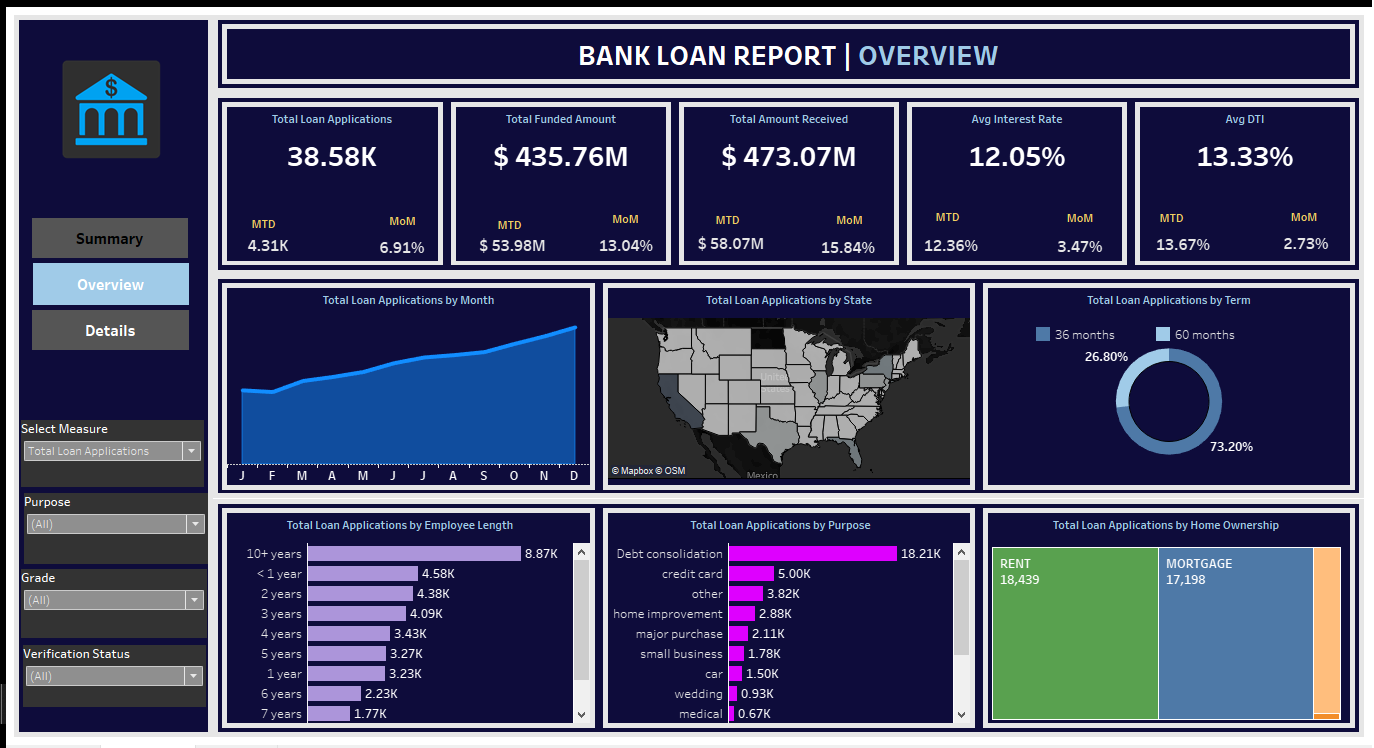

What the dashboard file says about the page in this screenshot:
{"tool":"tableau","page":{"name":"OVERVIEW","canvas":[1000,1000],"units":"permille","ordinal":1},"visuals":[{"type":"text","box":[156.6,22,832.2,87.8]},{"type":"image","param":"Image/pngtree-bank-icon-white-background-png-image_10798288 1.png","box":[32,37.2,89.2,204.4]},{"type":"worksheet","title":"Total Loan Applications","mark":"Automatic","box":[156.6,126.7,166.4,227.8]},{"type":"worksheet","title":"Total Funded Amount","mark":"Automatic","box":[323,126.7,166.4,227.8]},{"type":"worksheet","title":"Total Amount Received","mark":"Automatic","box":[489.4,126.7,166.4,227.8]},{"type":"worksheet","title":"Avg Interest Rate","mark":"Automatic","box":[655.8,126.7,166.4,227.8]},{"type":"worksheet","title":"Avg DTI","mark":"Automatic","box":[822.3,126.7,166.4,227.8]},{"type":"text","box":[922.1,261.8,55.4,45.6]},{"type":"text","box":[757.6,263.5,57.1,45.6]},{"type":"worksheet","title":"MTD Total Amount received","mark":"Automatic","box":[497,265.2,66.7,81.1]},{"type":"text","box":[826,265.2,54.6,40.5]},{"type":"text","box":[588.7,266.9,58,42.2]},{"type":"text","box":[665.8,266.9,47.6,35.5]},{"type":"text","box":[267.5,268.6,45.9,42.2]},{"type":"text","box":[502.2,268.6,52,40.5]},{"type":"text","box":[424.2,272,58,30.4]},{"type":"text","box":[168.8,273.7,39,38.9]},{"type":"worksheet","title":"MTD Total Funded Amount","mark":"Automatic","box":[335.9,273.7,66.7,71]},{"type":"worksheet","title":"MTD Avg Interest Rate","mark":"Automatic","box":[643.3,273.7,96.1,71]},{"type":"worksheet","title":"MTD Avg DTI","mark":"Automatic","box":[828.6,273.7,64.9,67.6]},{"type":"text","box":[339.4,277,58,37.2]},{"type":"dashboard-object","box":[19.1,285.5,114.3,54.1]},{"type":"worksheet","title":"MoM Total Funded Amount","mark":"Automatic","box":[424.2,292.2,58,59.1]},{"type":"worksheet","title":"MoM Total Amount Received","mark":"Automatic","box":[587.9,293.9,57.1,60.8]},{"type":"worksheet","title":"MoM Avg Interest Rate","mark":"Automatic","box":[758.4,295.6,55.4,57.4]},{"type":"worksheet","title":"MoM Avg DTI","mark":"Automatic","box":[922.9,297.3,56.3,45.6]},{"type":"worksheet","title":"MTD Total Loan Applications","mark":"Automatic","box":[165.4,302.4,52,40.5]},{"type":"worksheet","title":"MoM Total Loan Applications","mark":"Automatic","box":[265.8,305.7,47.6,37.2]},{"type":"dashboard-object","box":[19.9,346.3,114.3,57.4]},{"type":"worksheet","title":"Month","mark":"Area","rows":["Calculation_291045189662990349","Calculation_291045189662990349"],"cols":["issue_date"],"box":[156.7,371.6,277.9,285.5]},{"type":"worksheet","title":"State","mark":"Multipolygon","box":[434.6,371.6,277.1,285.5]},{"type":"worksheet","title":"Term","mark":"Pie","rows":["Calculation_1011621130282647553","Calculation_1011621130282676227"],"box":[711.7,371.6,277.1,285.5]},{"type":"dashboard-object","box":[19.1,410.5,115.2,54.1]},{"type":"legend","title":"Term","param":"[federated.0m3zu7s0mpwzpx18f6lww16rja50].[none:term:nk]","box":[751.5,429.1,228.6,45.6]},{"type":"parameter","param":"[Parameters].[Parameter 1]","box":[11.3,559.1,134.2,91.2]},{"type":"filter","title":"Avg DTI","param":"[federated.0m3zu7s0mpwzpx18f6lww16rja50].[none:purpose:nk]","box":[13,658.8,135.1,96.3]},{"type":"worksheet","title":"Emp Length","mark":"Automatic","rows":["emp_length"],"cols":["Calculation_291045189662990349"],"box":[156.7,674,277.9,304.1]},{"type":"worksheet","title":"Purpose","mark":"Automatic","rows":["purpose"],"cols":["Calculation_291045189662990349"],"box":[434.6,674,277.1,304.1]},{"type":"worksheet","title":"Home Ownership","mark":"Automatic","box":[711.7,674,277.1,304.1]},{"type":"filter","title":"Avg DTI","param":"[federated.0m3zu7s0mpwzpx18f6lww16rja50].[none:grade:nk]","box":[11.3,761.8,135.9,92.9]},{"type":"filter","title":"Avg DTI","param":"[federated.0m3zu7s0mpwzpx18f6lww16rja50].[none:verification_status:nk]","box":[12.1,864.9,134.2,84.5]}]}

Visuals, with their boxes on the dashboard's canvas, which has no fixed pixel size, in thousandths of its width and height (x1, y1, x2, y2). These are canvas units, not pixel positions in the 1374x748 screenshot, which may show the page scaled, cropped or inside an application window:
text: crop(157, 22, 989, 110)
image: crop(32, 37, 121, 242)
"Total Loan Applications" worksheet: crop(157, 127, 323, 354)
"Total Funded Amount" worksheet: crop(323, 127, 489, 354)
"Total Amount Received" worksheet: crop(489, 127, 656, 354)
"Avg Interest Rate" worksheet: crop(656, 127, 822, 354)
"Avg DTI" worksheet: crop(822, 127, 989, 354)
text: crop(922, 262, 978, 307)
text: crop(758, 264, 815, 309)
"MTD Total Amount received" worksheet: crop(497, 265, 564, 346)
text: crop(826, 265, 881, 306)
text: crop(589, 267, 647, 309)
text: crop(666, 267, 713, 302)
text: crop(268, 269, 313, 311)
text: crop(502, 269, 554, 309)
text: crop(424, 272, 482, 302)
text: crop(169, 274, 208, 313)
"MTD Total Funded Amount" worksheet: crop(336, 274, 403, 345)
"MTD Avg Interest Rate" worksheet: crop(643, 274, 739, 345)
"MTD Avg DTI" worksheet: crop(829, 274, 894, 341)
text: crop(339, 277, 397, 314)
dashboard-object: crop(19, 286, 133, 340)
"MoM Total Funded Amount" worksheet: crop(424, 292, 482, 351)
"MoM Total Amount Received" worksheet: crop(588, 294, 645, 355)
"MoM Avg Interest Rate" worksheet: crop(758, 296, 814, 353)
"MoM Avg DTI" worksheet: crop(923, 297, 979, 343)
"MTD Total Loan Applications" worksheet: crop(165, 302, 217, 343)
"MoM Total Loan Applications" worksheet: crop(266, 306, 313, 343)
dashboard-object: crop(20, 346, 134, 404)
"Month" worksheet (Area marks): crop(157, 372, 435, 657)
"State" worksheet (Multipolygon marks): crop(435, 372, 712, 657)
"Term" worksheet (Pie marks): crop(712, 372, 989, 657)
dashboard-object: crop(19, 410, 134, 465)
"Term" legend: crop(752, 429, 980, 475)
parameter: crop(11, 559, 146, 650)
"Avg DTI" filter: crop(13, 659, 148, 755)
"Emp Length" worksheet: crop(157, 674, 435, 978)
"Purpose" worksheet: crop(435, 674, 712, 978)
"Home Ownership" worksheet: crop(712, 674, 989, 978)
"Avg DTI" filter: crop(11, 762, 147, 855)
"Avg DTI" filter: crop(12, 865, 146, 949)
